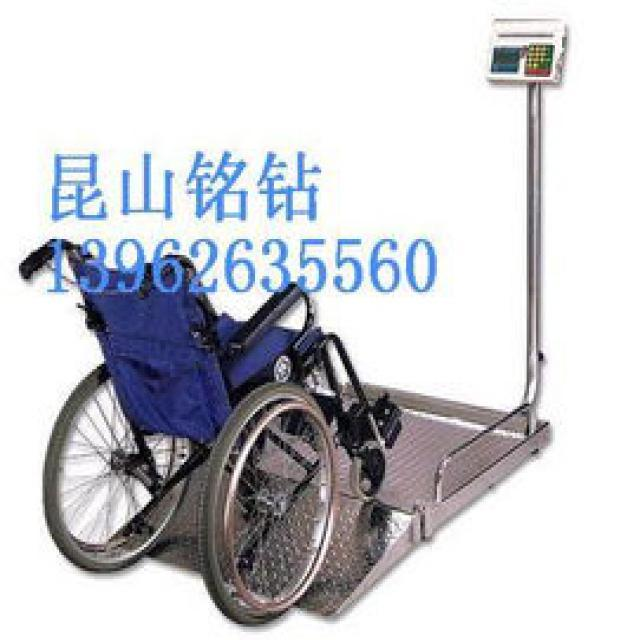wheelchair: (24, 228, 396, 616)
